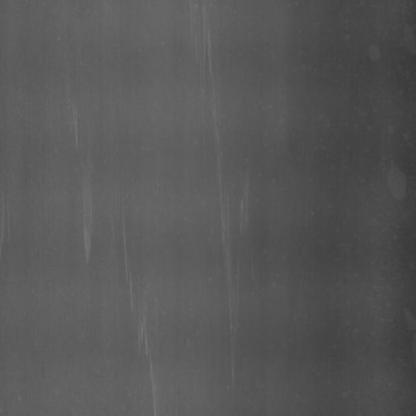silk_spot: (115, 231, 168, 415), (213, 179, 256, 382), (194, 21, 238, 153), (71, 184, 101, 255)
